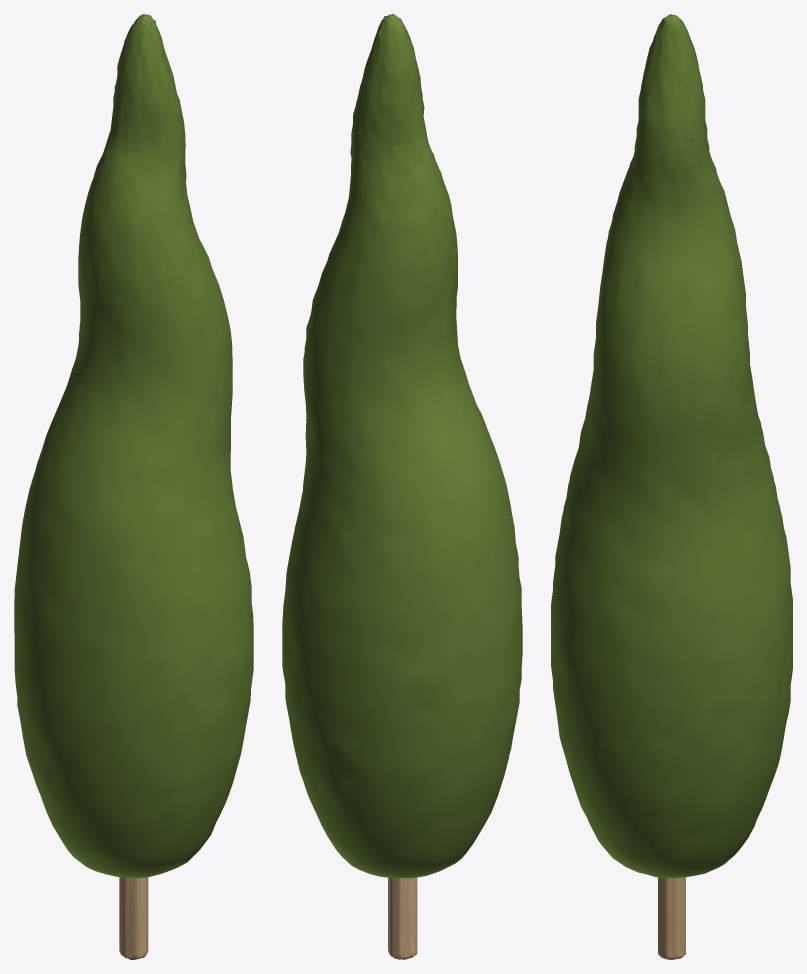
File: tree1_1-optimized.glb
The picture shows the model from 3 angles, left to right: view 1: azimuth 30°, elevation 25°; view 2: azimuth 150°, elevation 25°; view 3: azimuth 270°, elevation 25°; orthographic projection.
Bounding box in the file's own units: 0.4422 × 1.91 × 0.4422.
1 material, 1 textured.
